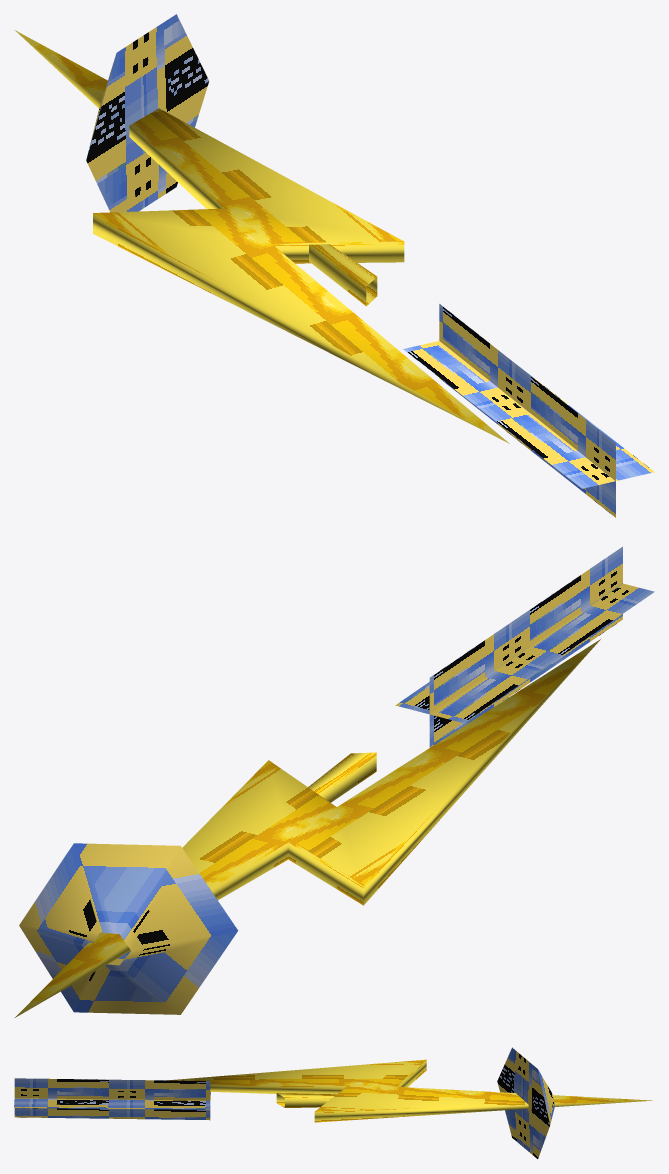
Rendered from 10_04_stick.gltf.
3 renders of one model, top to bottom at view 1: azimuth 30°, elevation 25°; view 2: azimuth 150°, elevation 25°; view 3: azimuth 270°, elevation 25°, orthographic. The views are drawn at different scales.
Parts seen in each view (by area): view 1: 10_04_stick; view 2: 10_04_stick; view 3: 10_04_stick.
Part boxes in pixels (left/top/right/bottom): 10_04_stick: left=15, top=14, right=654, bottom=517; 10_04_stick: left=15, top=546, right=654, bottom=1017; 10_04_stick: left=14, top=1047, right=652, bottom=1158.
Bounding box in the file's own units: 0.3105 × 0.219 × 1.41.
2 materials, 2 textured.
